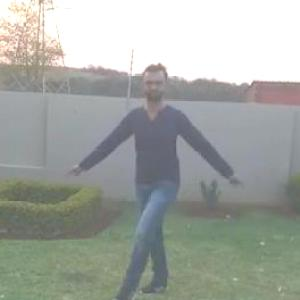land: (92, 73, 218, 258)
